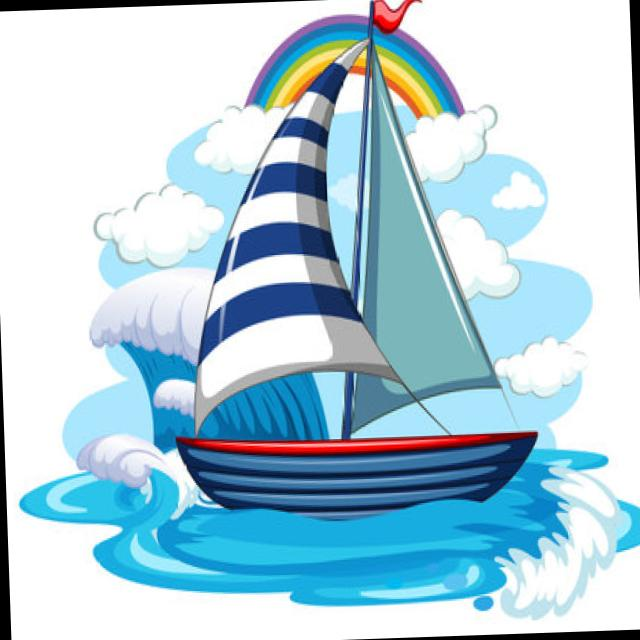boat: (146, 2, 552, 526)
